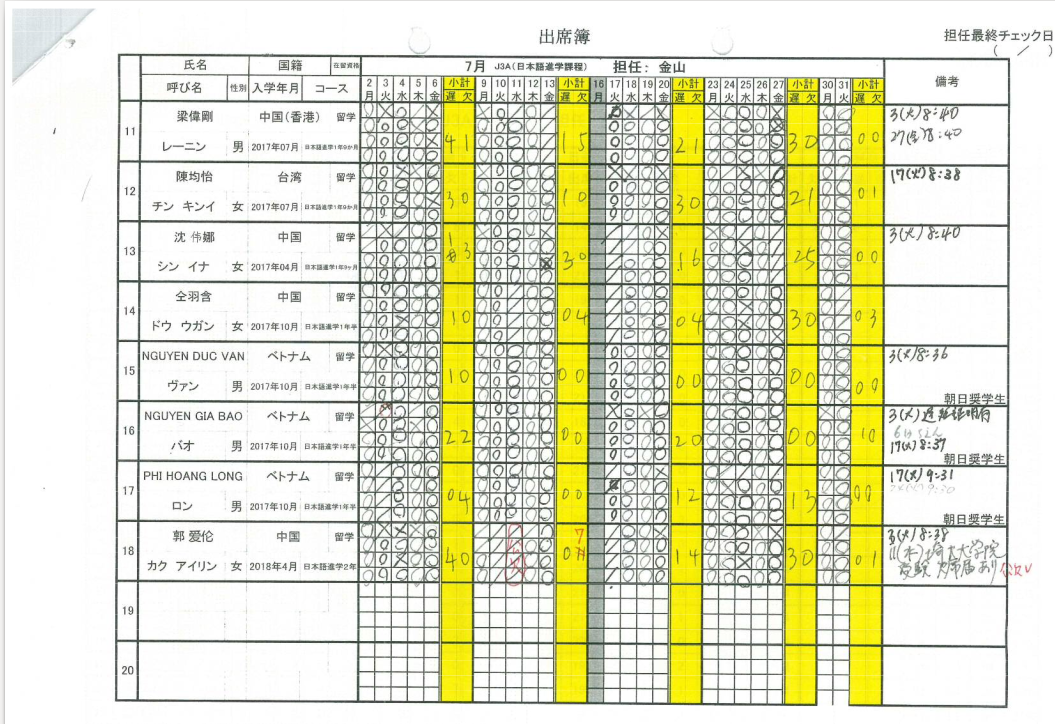/: (506, 312, 523, 330), (540, 133, 558, 150), (506, 297, 523, 314), (638, 103, 655, 120), (834, 284, 851, 301), (720, 164, 738, 180), (833, 300, 851, 316), (374, 507, 393, 522), (410, 102, 427, 118), (522, 523, 539, 539), (540, 118, 557, 134), (605, 224, 622, 240), (605, 238, 622, 254), (605, 268, 622, 284), (359, 403, 375, 419), (375, 462, 391, 478), (507, 328, 523, 344), (622, 224, 638, 240), (605, 284, 621, 300), (605, 463, 621, 479), (604, 538, 620, 554), (720, 463, 736, 479), (833, 524, 849, 540), (472, 538, 489, 553), (473, 523, 490, 538), (508, 104, 525, 119), (605, 254, 623, 268), (360, 223, 376, 238), (360, 238, 376, 253), (409, 402, 425, 417), (375, 478, 391, 493), (490, 553, 506, 568), (491, 523, 506, 539), (541, 103, 557, 118), (542, 149, 557, 165), (605, 329, 621, 344), (771, 255, 786, 271), (835, 165, 851, 180), (605, 523, 621, 538), (489, 538, 506, 552), (606, 300, 623, 314), (835, 317, 852, 331), (603, 569, 620, 583), (769, 465, 784, 480), (375, 493, 391, 507), (770, 240, 786, 254), (393, 221, 407, 236), (490, 569, 505, 583), (606, 314, 620, 329), (769, 226, 784, 240), (770, 271, 784, 286), (736, 464, 751, 478), (737, 225, 753, 238), (604, 554, 620, 567), (623, 239, 637, 253), (508, 284, 523, 297)
o: (423, 447, 441, 466), (524, 177, 542, 195), (538, 388, 557, 405), (425, 282, 443, 299), (391, 566, 409, 583), (523, 342, 541, 359), (524, 267, 541, 285), (507, 254, 525, 271), (507, 147, 525, 164), (359, 253, 378, 269), (374, 567, 393, 583), (538, 567, 555, 584), (538, 507, 555, 524), (473, 432, 490, 449), (490, 148, 507, 165), (392, 267, 410, 283), (359, 267, 377, 283), (359, 282, 377, 298), (391, 402, 409, 418), (392, 446, 408, 464), (505, 446, 523, 462), (522, 433, 540, 449), (539, 402, 557, 418), (507, 387, 523, 405), (523, 147, 541, 163), (393, 102, 409, 119), (376, 131, 393, 147), (377, 147, 394, 163), (424, 177, 441, 193), (409, 192, 426, 208), (376, 207, 393, 223), (377, 282, 394, 298), (425, 312, 441, 329), (424, 342, 441, 358), (425, 358, 442, 374), (359, 387, 376, 403), (423, 552, 440, 568), (408, 567, 425, 583), (522, 567, 539, 583), (522, 553, 539, 569), (539, 523, 556, 539), (538, 493, 555, 509), (538, 433, 555, 449), (523, 402, 540, 418), (506, 357, 523, 373), (538, 357, 555, 373), (490, 313, 507, 329), (523, 313, 539, 330), (539, 314, 556, 330), (491, 298, 508, 314), (475, 253, 492, 269), (492, 253, 508, 270), (524, 238, 541, 254), (508, 223, 524, 240), (525, 223, 541, 240), (523, 208, 540, 224), (491, 103, 508, 119), (359, 132, 377, 147), (359, 207, 377, 222), (425, 239, 443, 254), (409, 283, 427, 298), (408, 298, 426, 313), (359, 327, 377, 342), (391, 387, 409, 402), (407, 432, 425, 447), (407, 538, 425, 553), (522, 478, 540, 493), (506, 403, 524, 418), (490, 372, 508, 387), (523, 299, 541, 314), (491, 178, 509, 193), (491, 164, 509, 179), (524, 133, 542, 148), (506, 119, 526, 132), (394, 133, 410, 149), (409, 267, 425, 283), (409, 387, 425, 403), (425, 432, 441, 448), (408, 447, 424, 463), (423, 522, 439, 538), (473, 568, 489, 584), (539, 478, 555, 494), (539, 463, 555, 479), (490, 447, 506, 463), (523, 447, 539, 463), (507, 418, 523, 434), (540, 418, 556, 434), (540, 269, 556, 285), (541, 239, 557, 255), (475, 238, 491, 254), (507, 194, 523, 210), (541, 193, 557, 209), (425, 163, 442, 178), (409, 207, 426, 222), (409, 253, 426, 268), (393, 283, 410, 298), (425, 298, 442, 313), (360, 342, 377, 357), (408, 373, 425, 388), (375, 432, 392, 447), (358, 447, 375, 462), (358, 462, 375, 477), (358, 492, 375, 507), (408, 507, 425, 522), (490, 507, 507, 522), (522, 493, 539, 508), (505, 493, 522, 508), (473, 492, 490, 507), (473, 478, 490, 493), (489, 477, 506, 492), (506, 477, 523, 492), (490, 462, 507, 477), (522, 463, 539, 478), (523, 418, 540, 433), (490, 388, 507, 403), (538, 343, 555, 358), (490, 342, 507, 357), (474, 299, 491, 314), (491, 283, 508, 298), (539, 208, 556, 223), (490, 208, 507, 223), (523, 194, 540, 209), (475, 133, 492, 148), (490, 133, 507, 148), (507, 133, 524, 148), (407, 553, 425, 567), (523, 329, 541, 343), (509, 267, 523, 285), (360, 101, 376, 116), (409, 133, 425, 148), (394, 147, 410, 162), (361, 162, 376, 178), (377, 162, 393, 177), (359, 192, 375, 207), (409, 223, 425, 238), (393, 238, 409, 253), (409, 237, 425, 252), (377, 253, 393, 268), (393, 253, 409, 268), (426, 253, 442, 268), (377, 267, 393, 282), (361, 298, 377, 313), (360, 313, 376, 328), (377, 313, 393, 328), (410, 314, 426, 329), (377, 328, 393, 343), (409, 328, 425, 343), (409, 358, 425, 373), (376, 357, 391, 373), (359, 358, 375, 373), (360, 373, 375, 389), (375, 373, 391, 388), (425, 402, 440, 418), (425, 418, 441, 433), (376, 447, 392, 462), (392, 463, 407, 479), (392, 478, 408, 493), (408, 477, 424, 492), (424, 478, 440, 493), (391, 492, 407, 507), (423, 507, 439, 522), (375, 538, 391, 553), (391, 538, 407, 553), (359, 567, 375, 582), (539, 553, 554, 569), (489, 492, 505, 507), (474, 418, 490, 433), (490, 418, 506, 433), (474, 403, 490, 418), (539, 373, 555, 388), (523, 374, 539, 389), (474, 373, 490, 388), (474, 358, 490, 373), (491, 358, 506, 374), (524, 358, 540, 373), (507, 342, 523, 357), (474, 342, 490, 357), (475, 327, 491, 342), (540, 328, 556, 343), (541, 298, 556, 314), (541, 283, 557, 298), (508, 239, 524, 254), (491, 238, 507, 253), (507, 208, 523, 223), (475, 118, 491, 133), (359, 177, 376, 191), (391, 373, 408, 387), (425, 373, 442, 387), (375, 387, 392, 401), (392, 418, 409, 432), (358, 478, 375, 492), (375, 553, 392, 567), (506, 508, 523, 522), (473, 448, 490, 462), (538, 448, 555, 462), (490, 433, 507, 447), (522, 388, 539, 402), (490, 328, 507, 342), (492, 268, 509, 282), (491, 223, 508, 237), (507, 178, 524, 192), (524, 164, 541, 178), (524, 117, 541, 131), (359, 149, 377, 162), (410, 147, 425, 162), (425, 223, 440, 238), (377, 238, 392, 253), (392, 298, 407, 313), (393, 358, 408, 373), (425, 463, 440, 478), (359, 523, 374, 538), (424, 538, 439, 553), (474, 463, 489, 478), (507, 373, 522, 388), (491, 194, 506, 209), (476, 147, 491, 162), (360, 118, 376, 132), (425, 148, 441, 162), (425, 208, 441, 222), (393, 329, 409, 343), (393, 343, 409, 357), (409, 344, 425, 358), (425, 387, 441, 401), (375, 417, 391, 431), (359, 432, 375, 446), (425, 568, 441, 582), (474, 553, 490, 567), (523, 539, 539, 553), (539, 538, 553, 554), (474, 508, 490, 522), (522, 508, 538, 522), (507, 433, 523, 447), (474, 388, 490, 402), (475, 284, 491, 298), (523, 284, 539, 298), (475, 269, 491, 283), (475, 193, 491, 207), (477, 179, 491, 195), (508, 164, 524, 178), (491, 119, 507, 133), (376, 193, 393, 206), (393, 193, 410, 206), (425, 329, 442, 342), (475, 209, 492, 222), (395, 118, 409, 133), (378, 177, 392, 192), (393, 208, 408, 222), (425, 269, 440, 283), (377, 298, 391, 313), (409, 463, 424, 477), (408, 493, 423, 507), (392, 508, 407, 522), (508, 463, 523, 477), (491, 403, 506, 417), (526, 254, 541, 268), (541, 165, 556, 179), (377, 118, 393, 131), (409, 179, 425, 192), (359, 553, 375, 566), (475, 314, 491, 327), (525, 105, 541, 118), (392, 179, 409, 191), (393, 432, 406, 447), (424, 494, 439, 507), (359, 538, 374, 551), (541, 179, 556, 192), (359, 509, 375, 521), (426, 118, 440, 131)
x: (753, 164, 771, 181), (767, 524, 784, 541), (408, 163, 426, 179), (817, 404, 835, 420), (736, 298, 754, 314), (769, 329, 787, 345), (736, 238, 754, 254), (605, 164, 623, 180), (426, 102, 442, 119), (409, 417, 425, 434), (408, 522, 425, 538), (540, 223, 557, 239), (735, 554, 752, 570), (750, 524, 767, 540), (652, 523, 669, 539), (637, 404, 654, 420), (737, 164, 754, 180), (654, 163, 670, 180), (623, 103, 639, 120), (705, 103, 721, 120), (426, 131, 441, 149), (604, 403, 622, 418), (425, 194, 441, 210), (393, 522, 409, 538), (475, 102, 491, 118), (769, 103, 785, 119), (475, 223, 492, 238), (704, 225, 721, 240), (378, 102, 393, 118), (409, 119, 425, 134), (377, 223, 393, 238), (359, 418, 375, 433), (376, 522, 391, 538), (475, 163, 490, 179), (720, 479, 736, 494), (623, 164, 638, 180), (393, 313, 410, 327), (376, 343, 393, 357), (393, 163, 408, 178), (654, 464, 669, 479), (737, 314, 752, 329), (391, 553, 407, 567), (655, 223, 669, 239)
